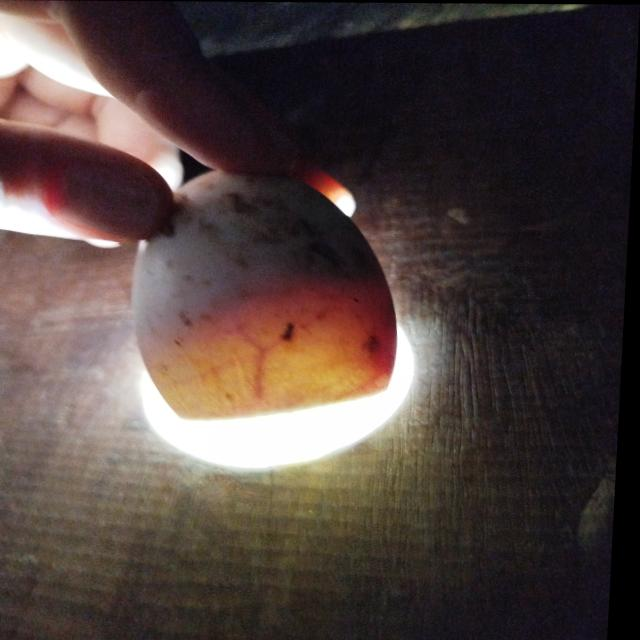Embriao: (136, 170, 388, 346)
